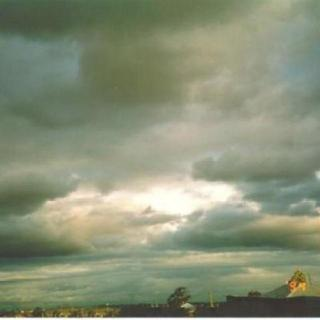Stratocumulus: (0, 0, 319, 266)
